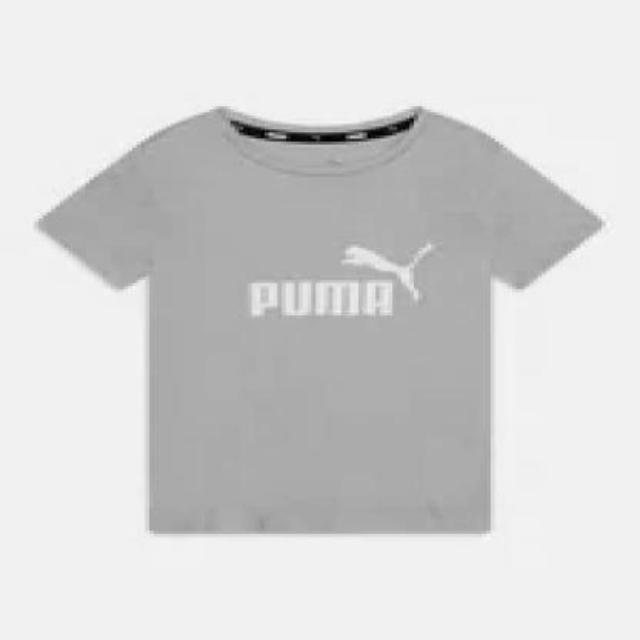PUMA_original: (224, 228, 452, 340)
